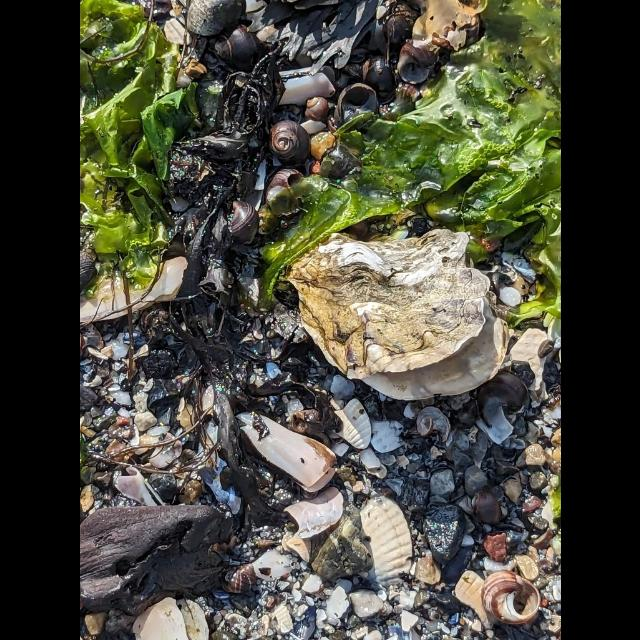Oyster-Open: (286, 228, 512, 406)
